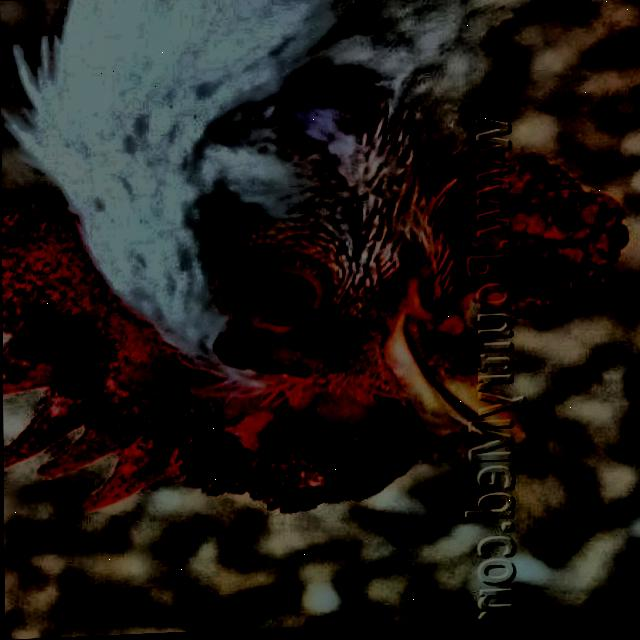Fowlpox: (175, 202, 442, 520), (435, 138, 620, 400), (2, 299, 135, 431)
